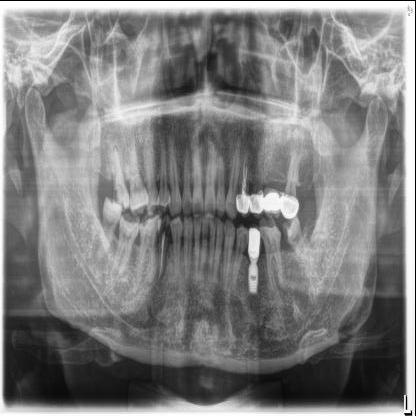Bicon: (249, 264, 260, 294)
